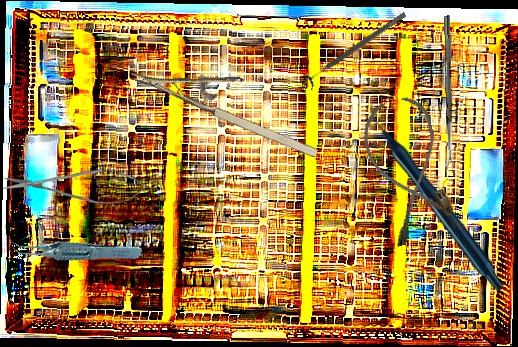Cannula: (356, 92, 460, 249)
Fixation Ring: (301, 6, 411, 91)
Handpiece: (370, 99, 503, 291)
Micro Scissor: (2, 164, 148, 207)
Needle Holder: (129, 35, 332, 163)
Surgical Spoon: (443, 15, 453, 170)
Tissue Forceps: (6, 210, 144, 287)
